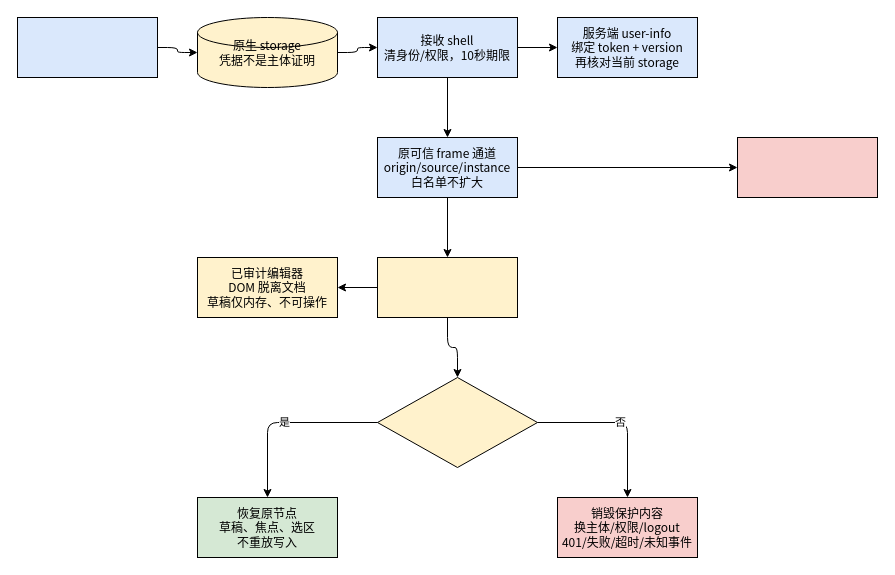
Some shapes in this 895 by 575 pixel diagram are drawn without their labels. The shapes that lost their labels are listed below. From the top down, each one's centre as x and y in pixels, then its label:
At [87,47]: "另一 tab 真实 shell store 续期".
At [807,167]: "兼容旧消费者 收到空 token 即关闭 安全保留，草稿不保证".
At [447,287]: "core 显式待定 无 token/主体/权限 旧请求撤销，12秒兜底".
At [457,422]: "同版本证明 同主体 + 同有效权限？".
